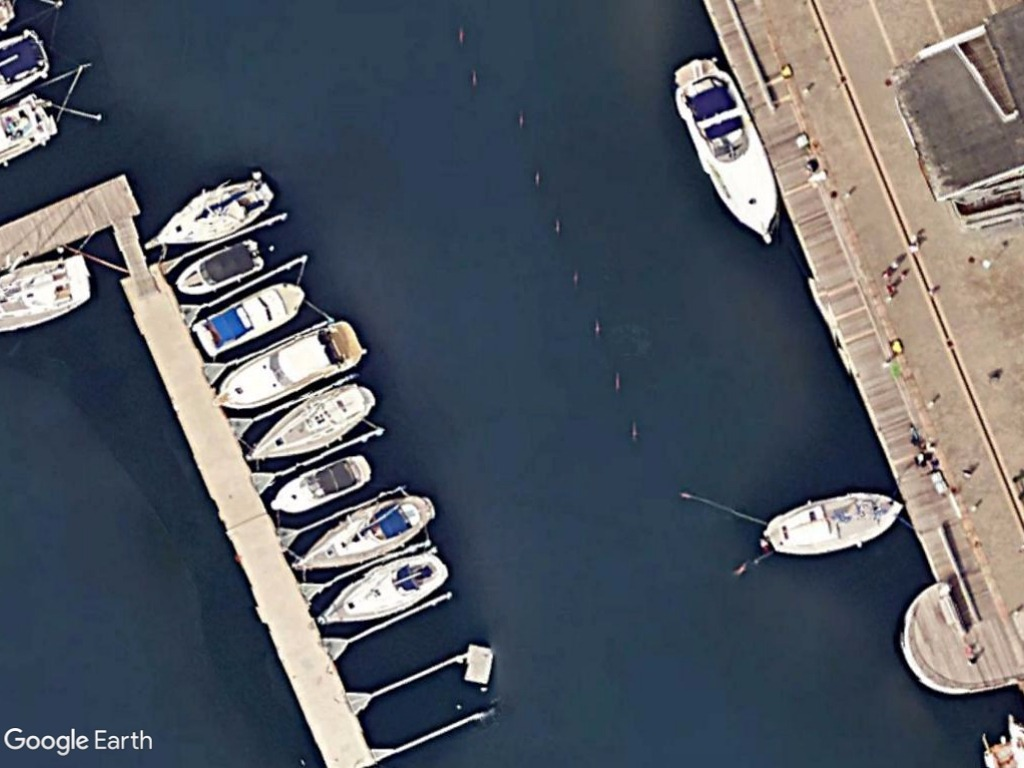boat: (675, 57, 783, 244), (212, 318, 368, 417), (288, 490, 442, 577), (315, 547, 459, 632), (243, 379, 382, 466), (138, 171, 282, 253), (755, 491, 908, 563), (191, 276, 310, 362), (263, 447, 375, 515), (168, 233, 267, 298)
